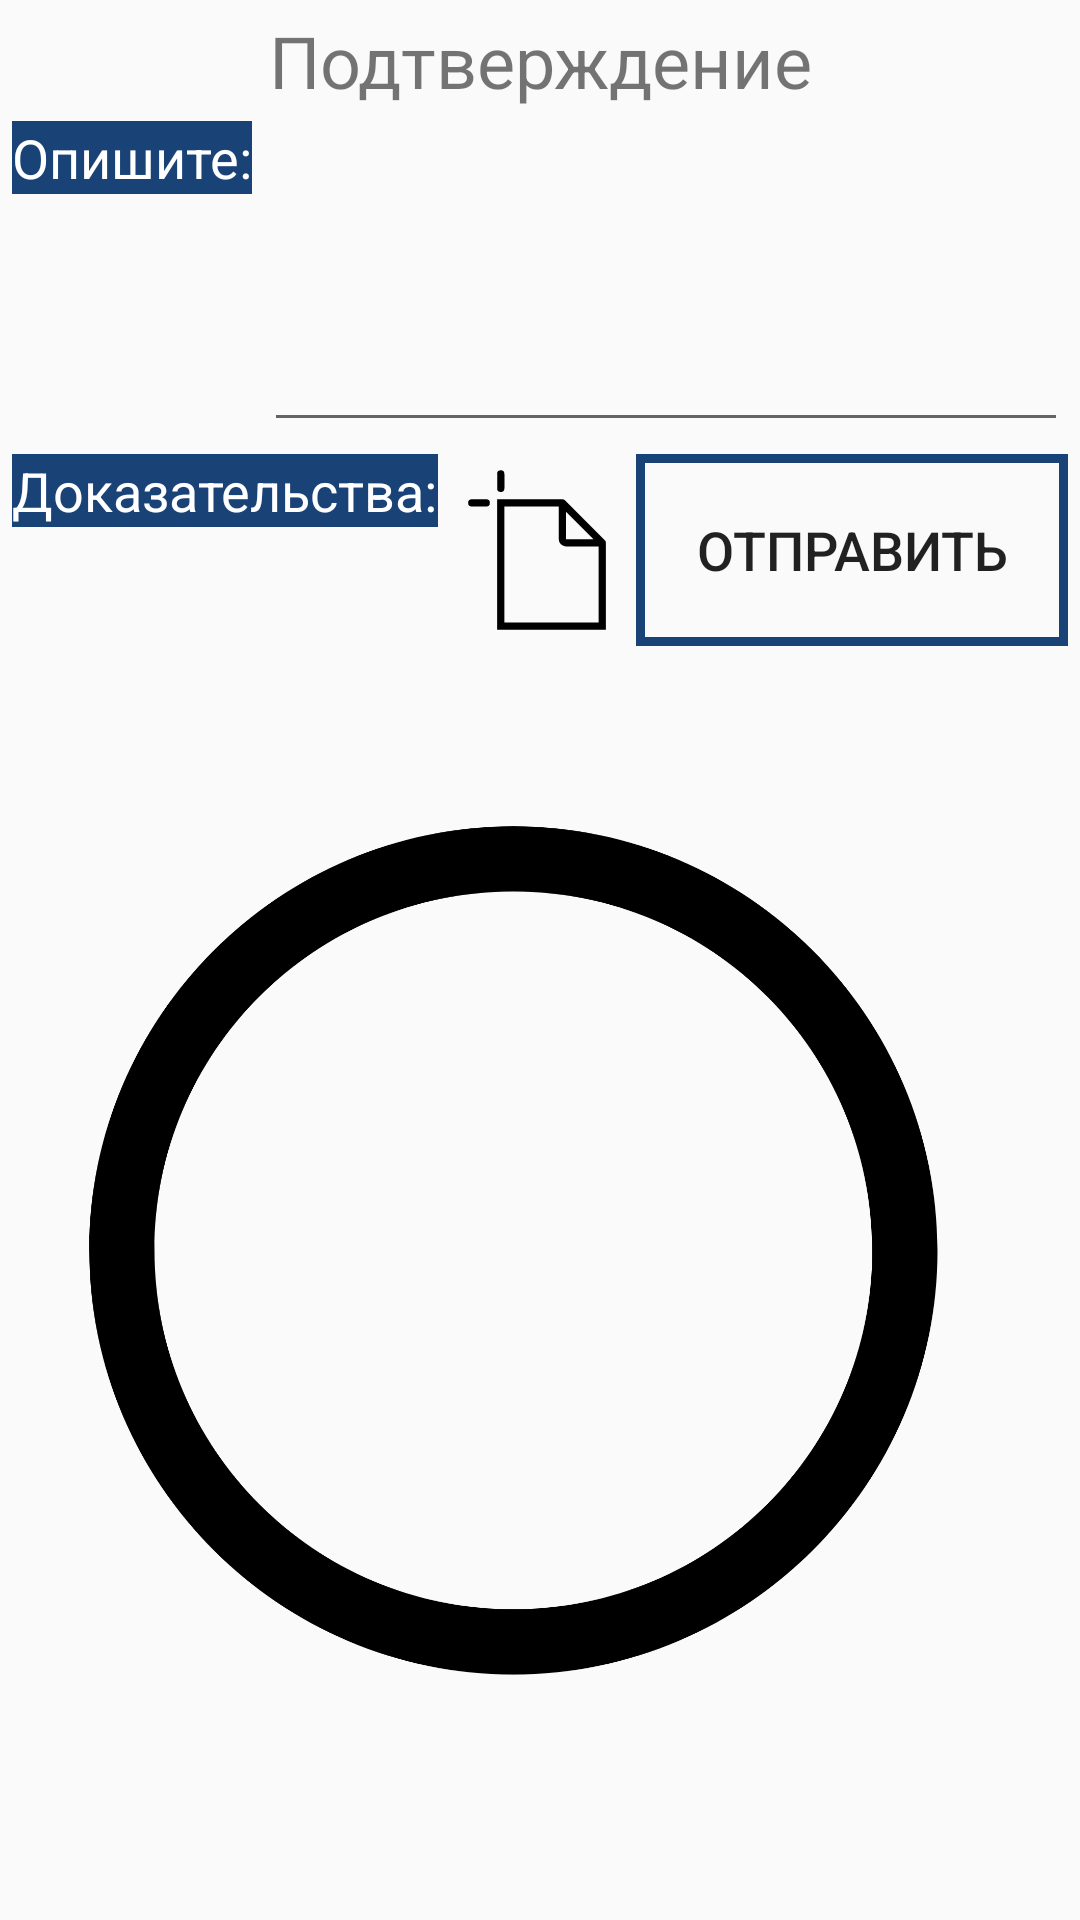

Named icons in this screenshot (1080 × 1920) and their centers, (x=x, y=y):
add artboard: (x=537, y=550)
